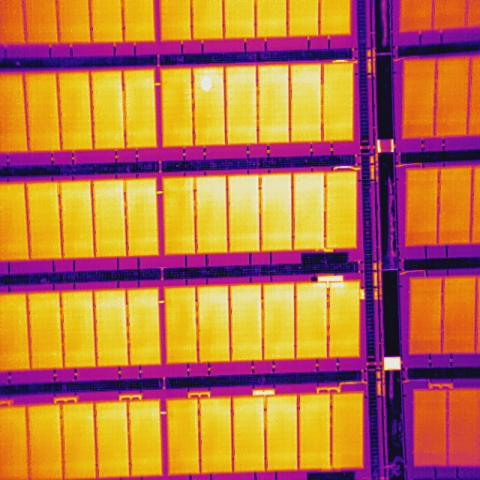fault: (199, 72, 214, 93)
